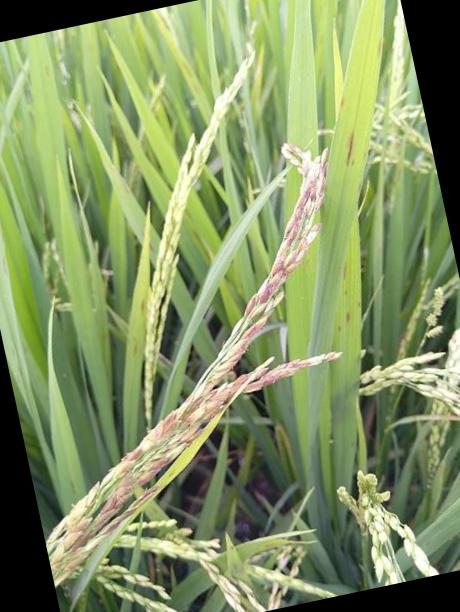Panicle Blight: (45, 145, 340, 568)
